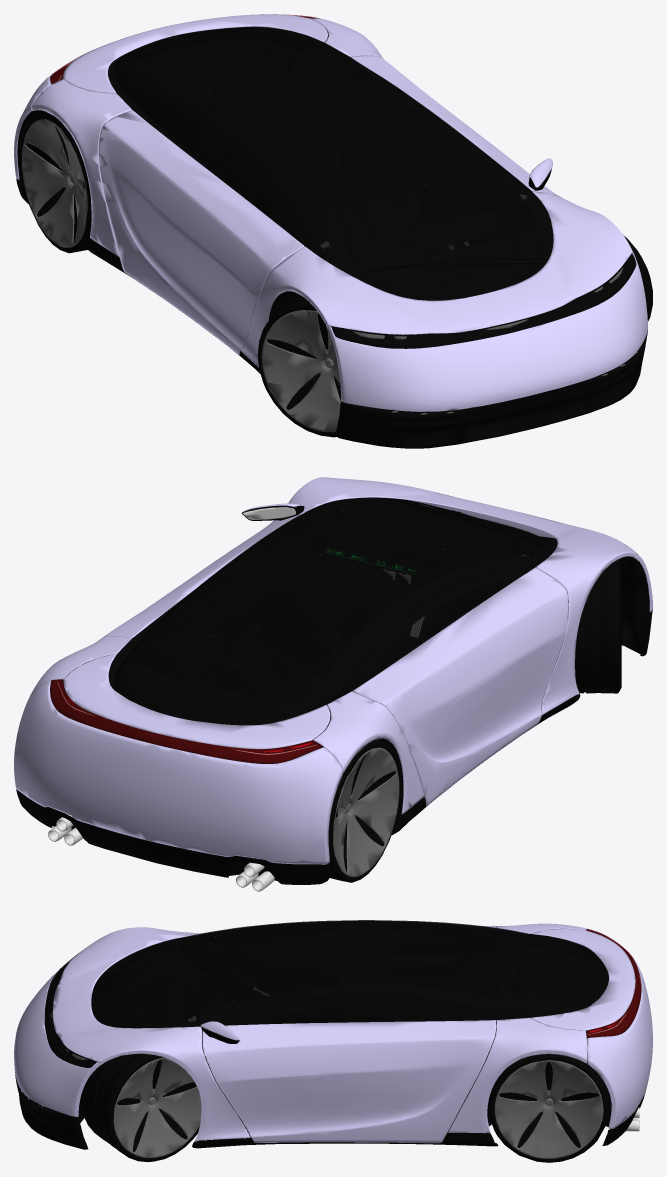
The picture shows the model from 3 angles, top to bottom: view 1: azimuth 30°, elevation 25°; view 2: azimuth 150°, elevation 25°; view 3: azimuth 270°, elevation 25°; orthographic projection. The views are drawn at different scales.
Visible parts, largest first — view 1: Object_187_baked, Object_189_baked, Object_197_baked, Object_244_baked, WheelCollection.001|Plane|Dupli|_Material.001_0, Cube.045_pattern_4_0, Cube.003_Material.007_0, Object_193_baked, WheelCollection.001|Plane.001|Dupli|1_Material.002_0, WheelCollection.001|Plane.002|Dupli|3_Material.003_0, Cylinder.115_Material.031_0, Cube.106_wheel_well_0; view 2: Object_187_baked, Object_189_baked, Object_197_baked, Object_244_baked, WheelCollection.001|Plane.001|Dupli|1_Material.002_0, WheelCollection.001|Plane|Dupli|_Material.001_0, Cube.005_Material.010_0, Cube.045_pattern_4_0, Object_193_baked, Cube.106_wheel_well_0, Cylinder_Material.009_0, Object_256_baked (+3 smaller); view 3: Object_187_baked, Object_189_baked, Object_197_baked, WheelCollection.001|Plane|Dupli|_Material.001_0, WheelCollection.001|Plane.001|Dupli|1_Material.002_0, Object_244_baked, Object_193_baked, WheelCollection.001|Plane.002|Dupli|3_Material.003_0, Cube.003_Material.007_0, Cube.005_Material.010_0, Cube.045_pattern_4_0, Object_256_baked (+1 smaller).
Boxes of the visible parts, x1,y1,x2,y2 form: Object_187_baked: (14,14,647,411); Object_189_baked: (114,28,548,300); Object_197_baked: (16,26,647,448); Object_244_baked: (150,47,511,270); WheelCollection.001|Plane|Dupli|_Material.001_0: (22,119,340,432); Cube.045_pattern_4_0: (181,70,446,266); Cube.003_Material.007_0: (333,254,647,418); Object_193_baked: (51,18,642,417); WheelCollection.001|Plane.001|Dupli|1_Material.002_0: (21,111,652,437); WheelCollection.001|Plane.002|Dupli|3_Material.003_0: (26,120,340,432); Cylinder.115_Material.031_0: (366,257,549,272); Cube.106_wheel_well_0: (17,110,553,325); Object_187_baked: (14,477,652,864); Object_189_baked: (115,500,552,725); Object_197_baked: (16,497,652,884); Object_244_baked: (140,543,430,693); WheelCollection.001|Plane.001|Dupli|1_Material.002_0: (328,558,621,882); WheelCollection.001|Plane|Dupli|_Material.001_0: (333,747,399,877); Cube.005_Material.010_0: (50,679,322,763); Cube.045_pattern_4_0: (137,595,408,704); Object_193_baked: (51,505,321,762); Cube.106_wheel_well_0: (301,499,649,864); Cylinder_Material.009_0: (48,814,274,891); Object_256_baked: (51,572,414,763); Object_187_baked: (14,923,652,1143); Object_189_baked: (94,920,605,1027); Object_197_baked: (15,921,646,1149); WheelCollection.001|Plane|Dupli|_Material.001_0: (113,1057,603,1158); WheelCollection.001|Plane.001|Dupli|1_Material.002_0: (81,1053,608,1162); Object_244_baked: (197,933,513,1021); Object_193_baked: (18,930,640,1116); WheelCollection.001|Plane.002|Dupli|3_Material.003_0: (117,1057,598,1154); Cube.003_Material.007_0: (17,950,95,1116); Cube.005_Material.010_0: (586,929,641,1037); Cube.045_pattern_4_0: (320,951,510,1021); Object_256_baked: (249,929,640,1037).
Size of the model in its own units: 2.5 by 1.22 by 4.69.
